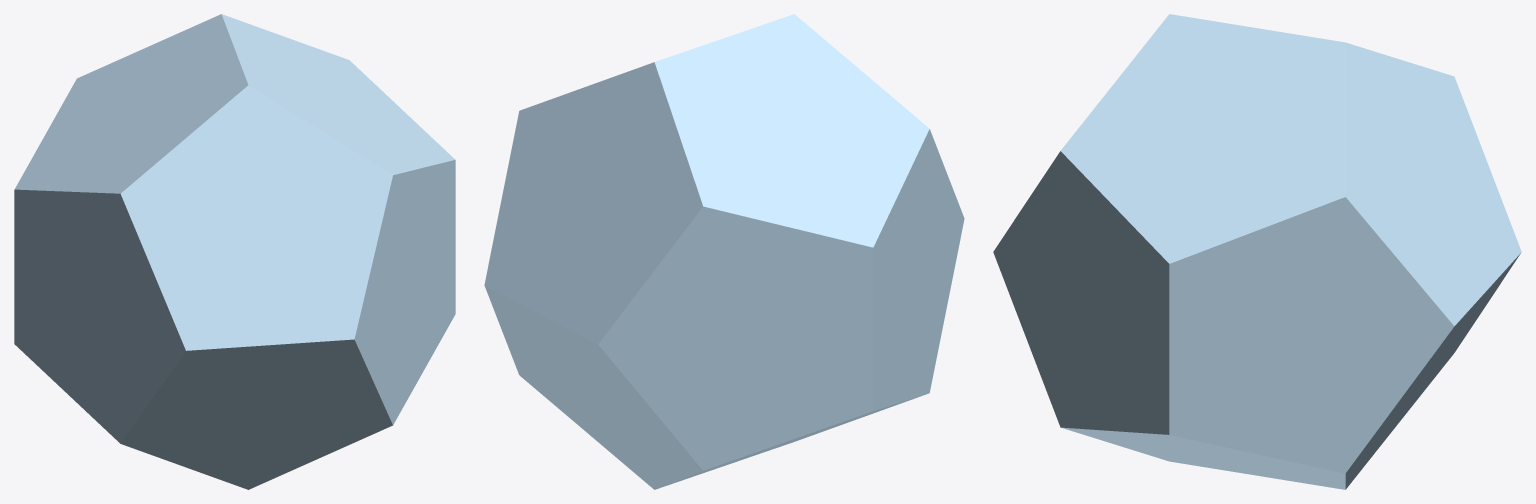
The model's file is dodecahedron.fbx.
3 views of the same model, side by side, from view 1: azimuth 30°, elevation 25°; view 2: azimuth 150°, elevation 25°; view 3: azimuth 270°, elevation 25° (orthographic). The views are drawn at different scales.
Visible parts, largest first — view 1: Polyhedron; view 2: Polyhedron; view 3: Polyhedron.
Boxes of the visible parts, x1,y1,x2,y2 form: Polyhedron: [14, 14, 455, 489]; Polyhedron: [484, 14, 964, 489]; Polyhedron: [993, 14, 1521, 489].
Size of the model in its own units: 175 by 187 by 200.
